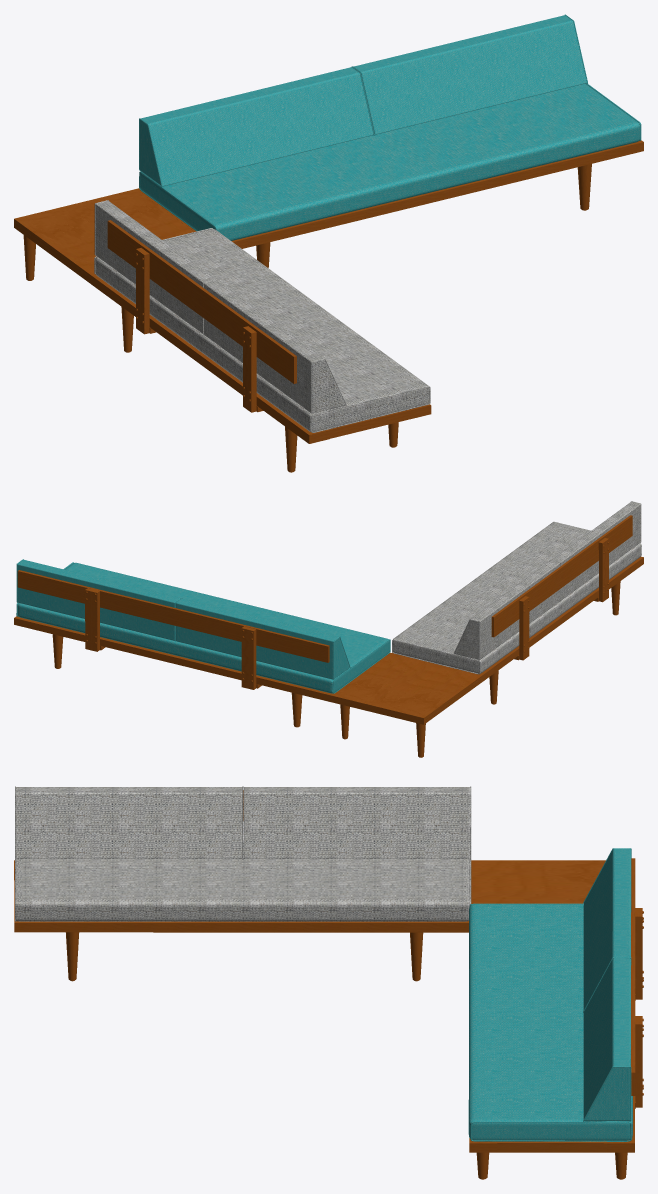
File: Bundle1git.glb
3 renders of one model, top to bottom at view 1: azimuth 30°, elevation 25°; view 2: azimuth 150°, elevation 25°; view 3: azimuth 270°, elevation 25°, orthographic. The views are drawn at different scales.
Visible parts, largest first — view 1: Cylinder.028, Cylinder.005, Cylinder.068; view 2: Cylinder.068, Cylinder.028, Cylinder.005; view 3: Cylinder.005, Cylinder.028, Cylinder.068.
Boxes of the visible parts, left/top/right/bottom form: Cylinder.028: left=139, top=14, right=641, bottom=240; Cylinder.005: left=94, top=200, right=430, bottom=432; Cylinder.068: left=14, top=140, right=643, bottom=472; Cylinder.068: left=14, top=515, right=643, bottom=757; Cylinder.028: left=16, top=559, right=390, bottom=693; Cylinder.005: left=392, top=501, right=641, bottom=674; Cylinder.005: left=15, top=786, right=471, bottom=921; Cylinder.028: left=468, top=848, right=632, bottom=1141; Cylinder.068: left=14, top=790, right=643, bottom=1179.
Bounding box in the file's own units: 3.47 × 0.7788 × 3.23.
Materials: 3 (3 with a texture image).
